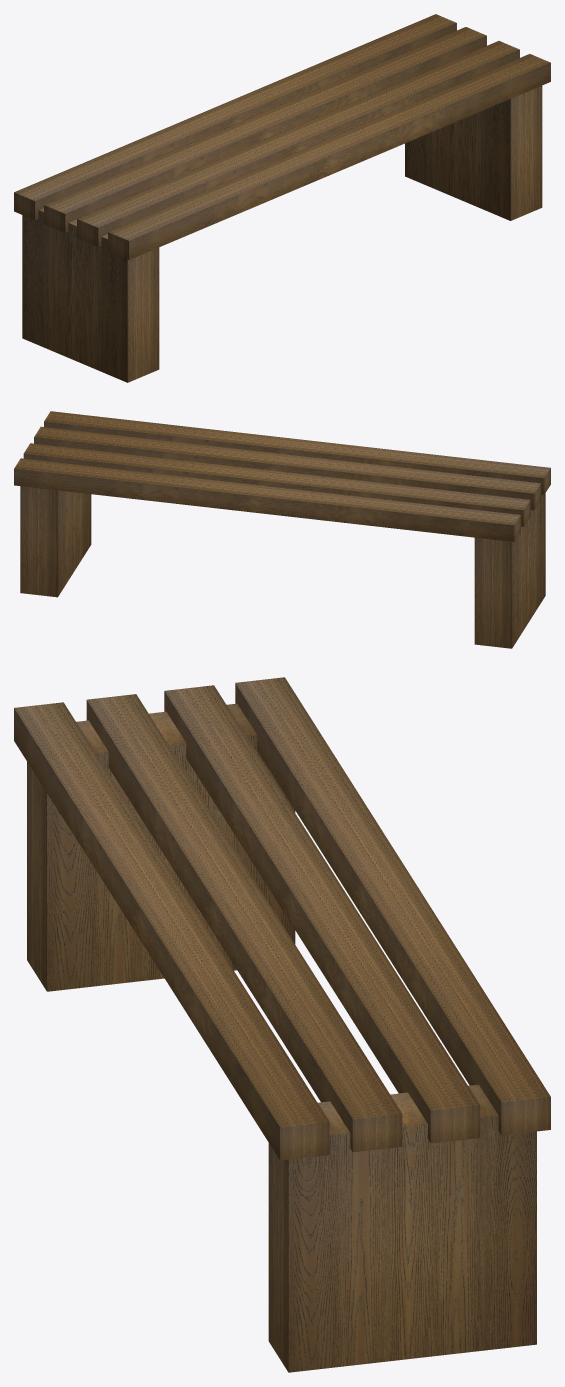
File: Obstacle_084.obj
The picture shows the model from 3 angles, top to bottom: view 1: azimuth 30°, elevation 25°; view 2: azimuth 150°, elevation 25°; view 3: azimuth 270°, elevation 25°; orthographic projection. The views are drawn at different scales.
Visible parts, largest first — view 1: Box174, Box172, Box173; view 2: Box174, Box172, Box173; view 3: Box174, Box173, Box172.
Part boxes in pixels (box(x1,y1,x2,y2)): Box174: box(14, 14, 550, 259); Box172: box(22, 208, 159, 382); Box173: box(405, 85, 542, 220); Box174: box(14, 411, 550, 541); Box172: box(474, 493, 545, 648); Box173: box(20, 486, 91, 597); Box174: box(14, 677, 550, 1160); Box173: box(268, 1084, 536, 1372); Box172: box(27, 703, 295, 991).
Bounding box in the file's own units: 81.62 × 21.16 × 41.13.
